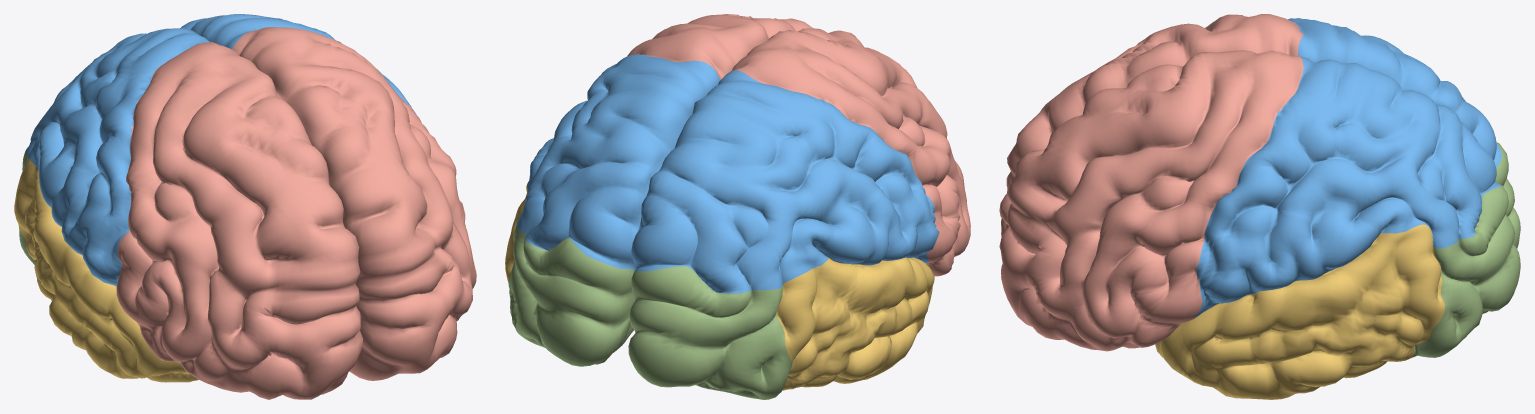
File: 男性_神经系统_神经大脑多色.fbx
3 renders of one model, left to right at view 1: azimuth 30°, elevation 25°; view 2: azimuth 150°, elevation 25°; view 3: azimuth 270°, elevation 25°, orthographic.
Parts seen in each view (by area): view 1: 男性_神经系统_神经大脑多色; view 2: 男性_神经系统_神经大脑多色; view 3: 男性_神经系统_神经大脑多色.
Part boxes in pixels (x1,y1,x2,y2): 男性_神经系统_神经大脑多色: (14, 14, 476, 399); 男性_神经系统_神经大脑多色: (505, 14, 970, 399); 男性_神经系统_神经大脑多色: (999, 14, 1520, 399).
Bounding box in the file's own units: 13.85 × 11.18 × 17.57.
